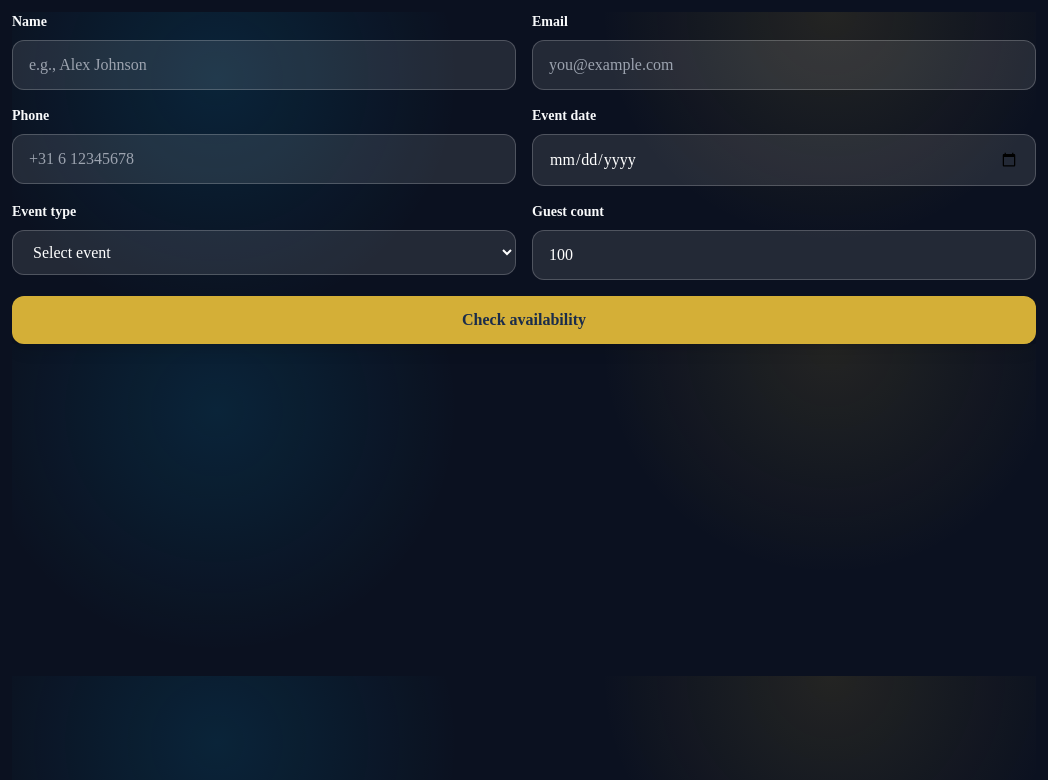
Test: AvailabilityForm analytics payload › announces a failed request as an alert
The image size is (1048, 780).
Type "Test Name" into the field named "name" at (264, 65), box [12,40,516,90]
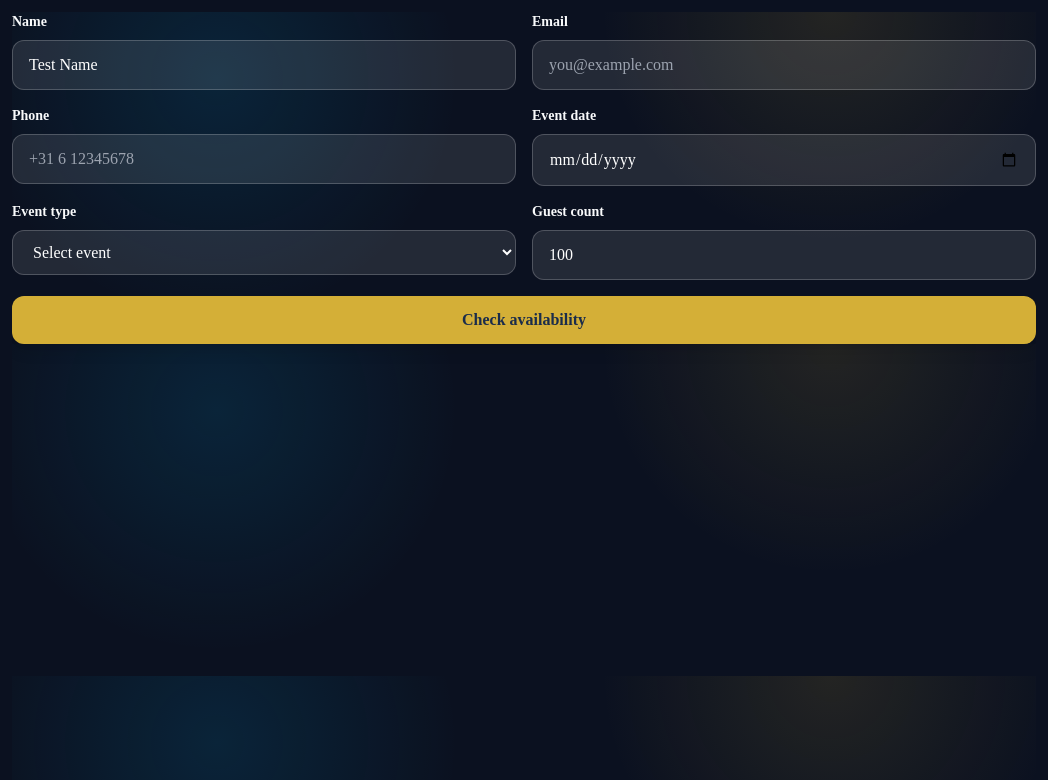
Type "test@example.test" into the field named "email" at (784, 65), box [532,40,1036,90]
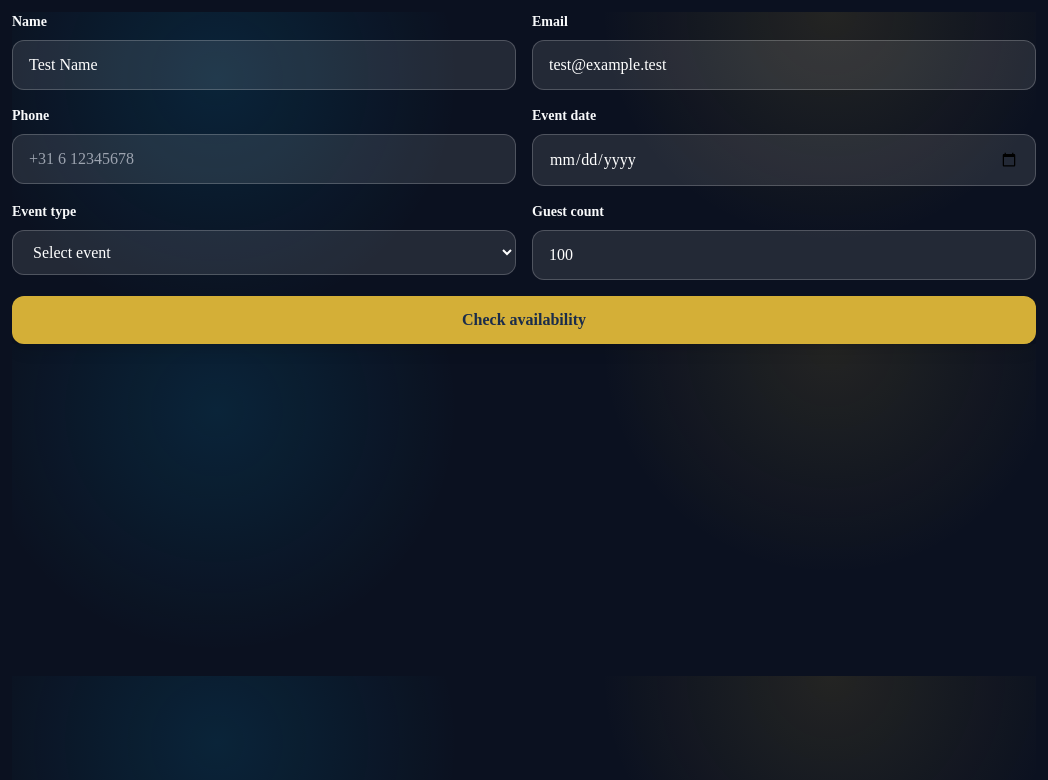
Type "+31600000000" into the field named "phone" at (264, 159), box [12,134,516,184]
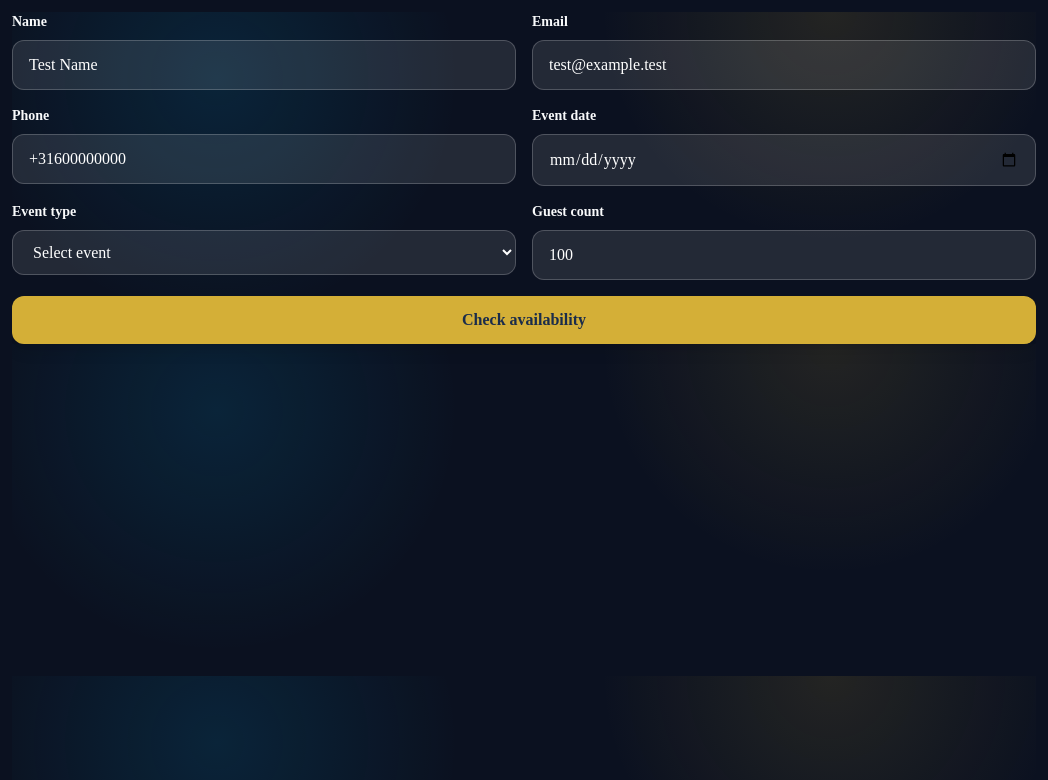
Type "2030-01-01" into the date field named "date" at (784, 160), box [532,134,1036,186]
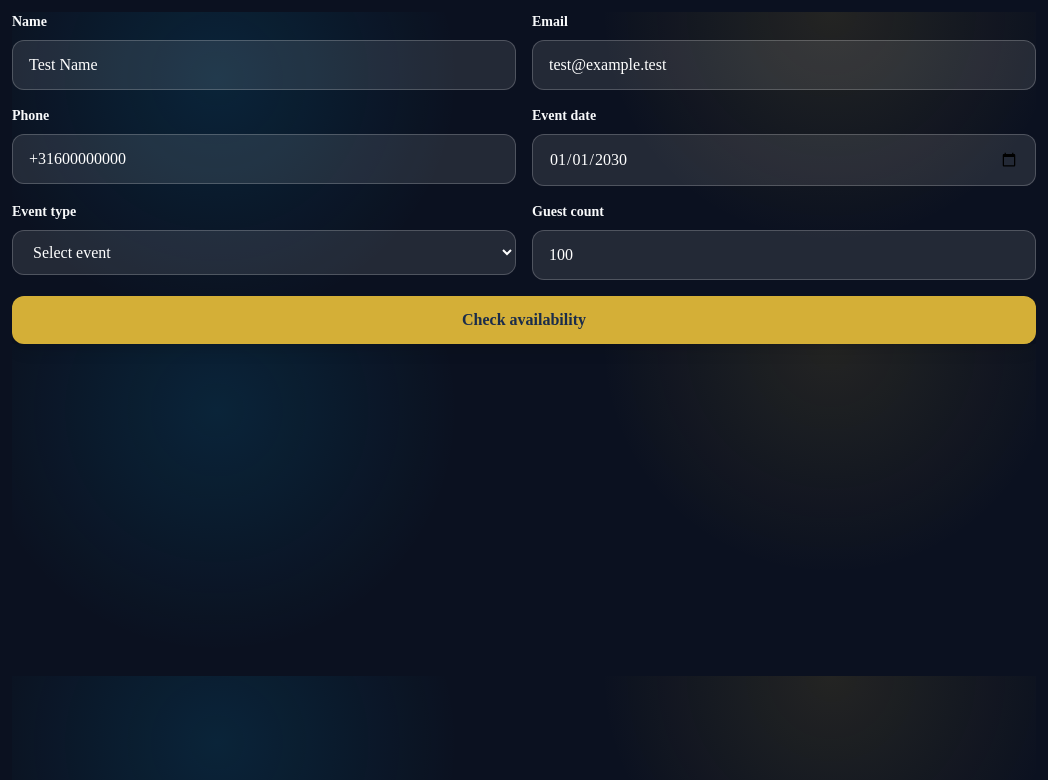
Select "Wedding" in the dropdown named "eventType" at (264, 252), box [12,230,516,275]
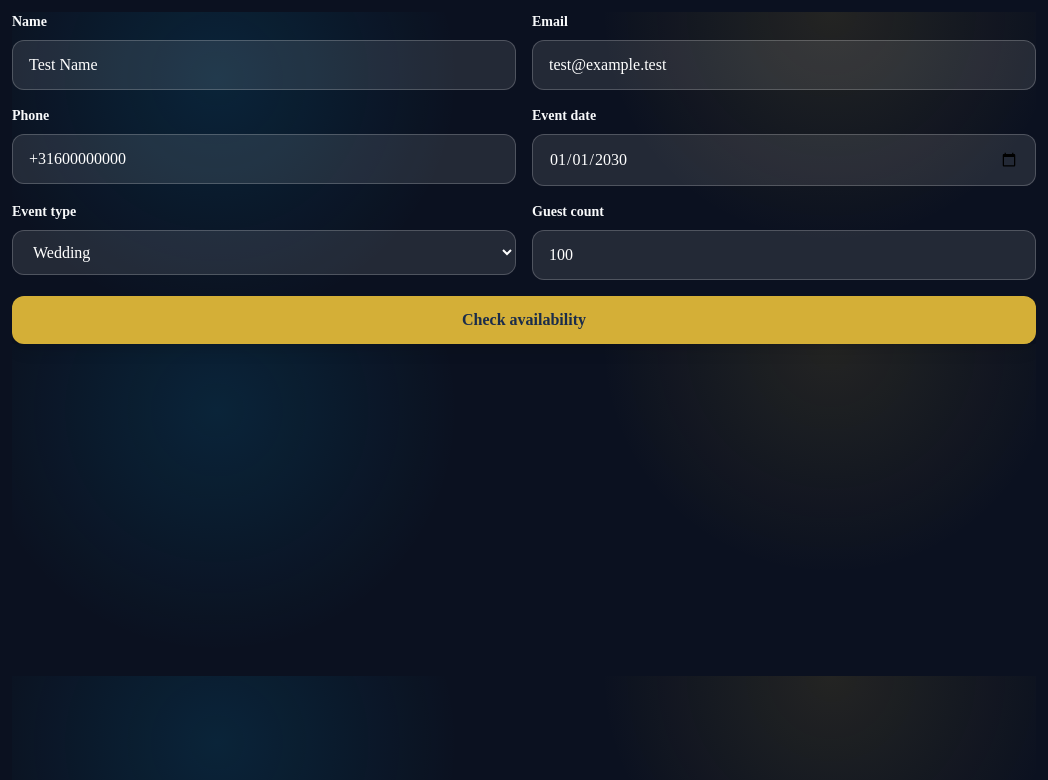
Click the button "Check availability" at (524, 320), box [12,296,1036,344]
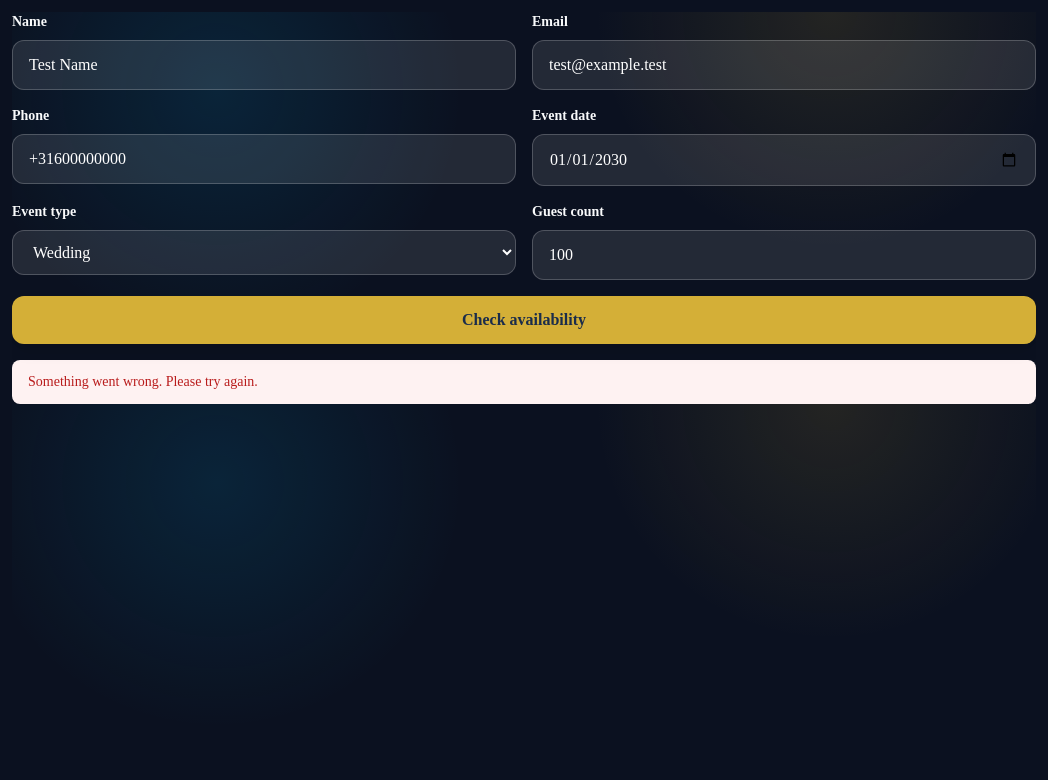
Expected: the message reads "Something went wrong. Please try again.", [28,374,258,389]
